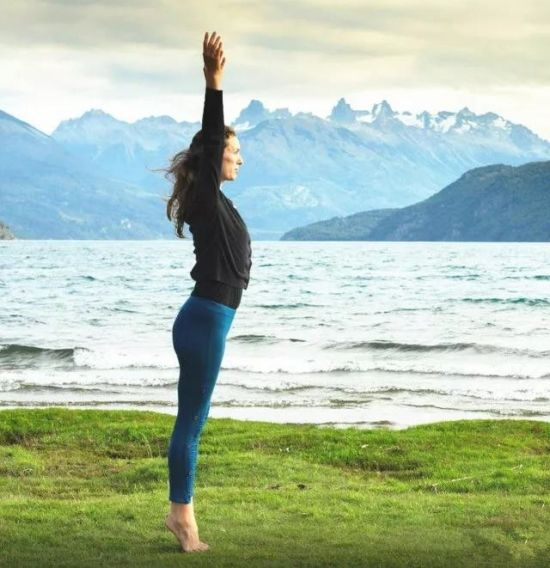other: (160, 26, 259, 564)
